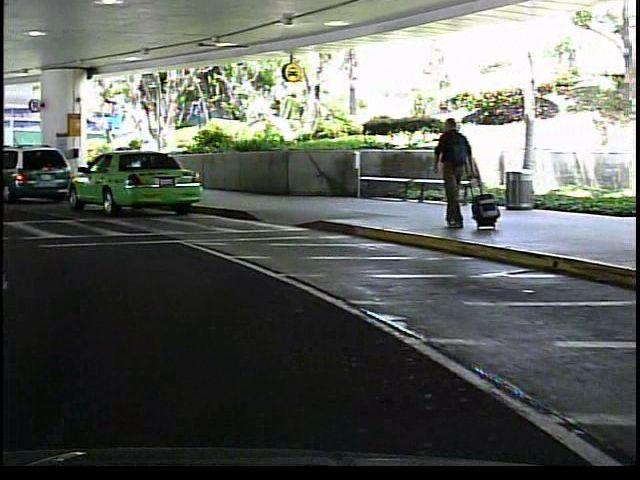person: (426, 113, 479, 241)
